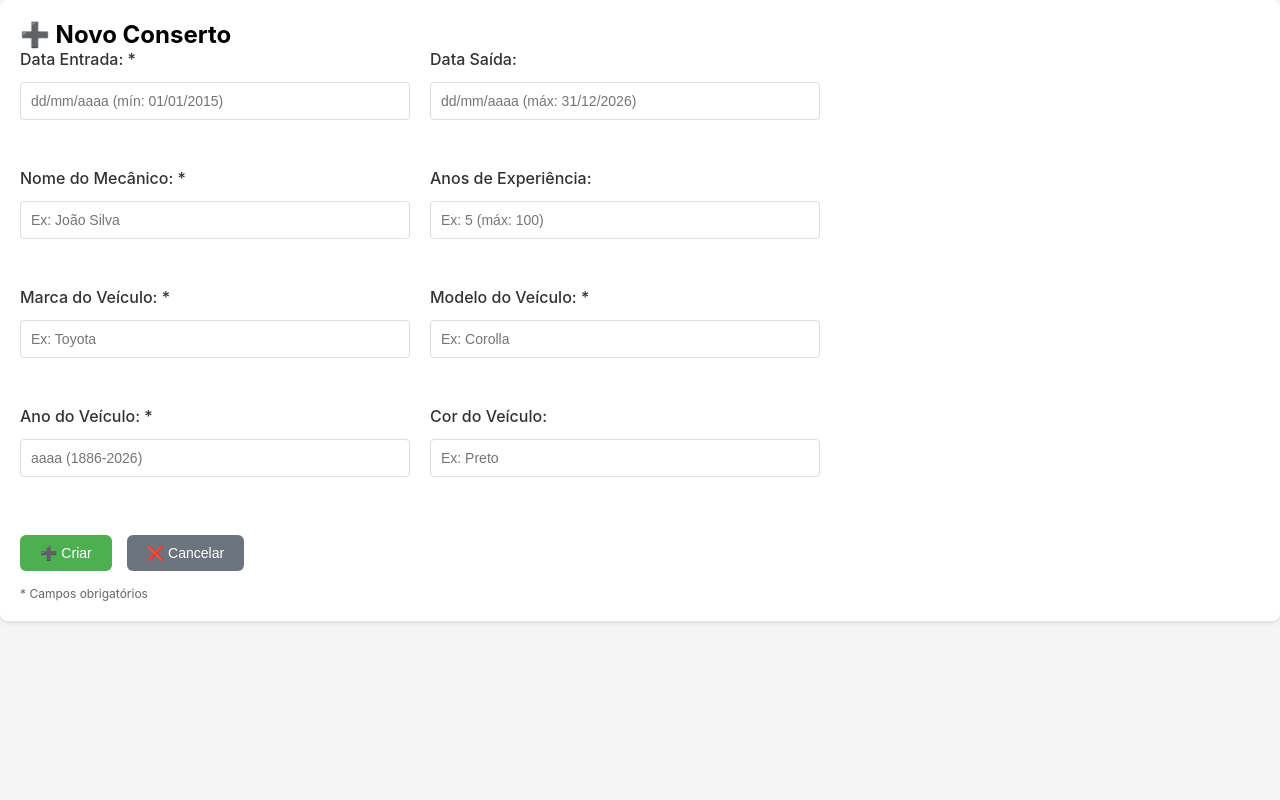
Test: ConsertoForm Component - Unit Tests › Form Validation - Required Fields › should show error for empty dataEntrada
Click the button "➕ Criar": (66, 553) [20,535,112,571]
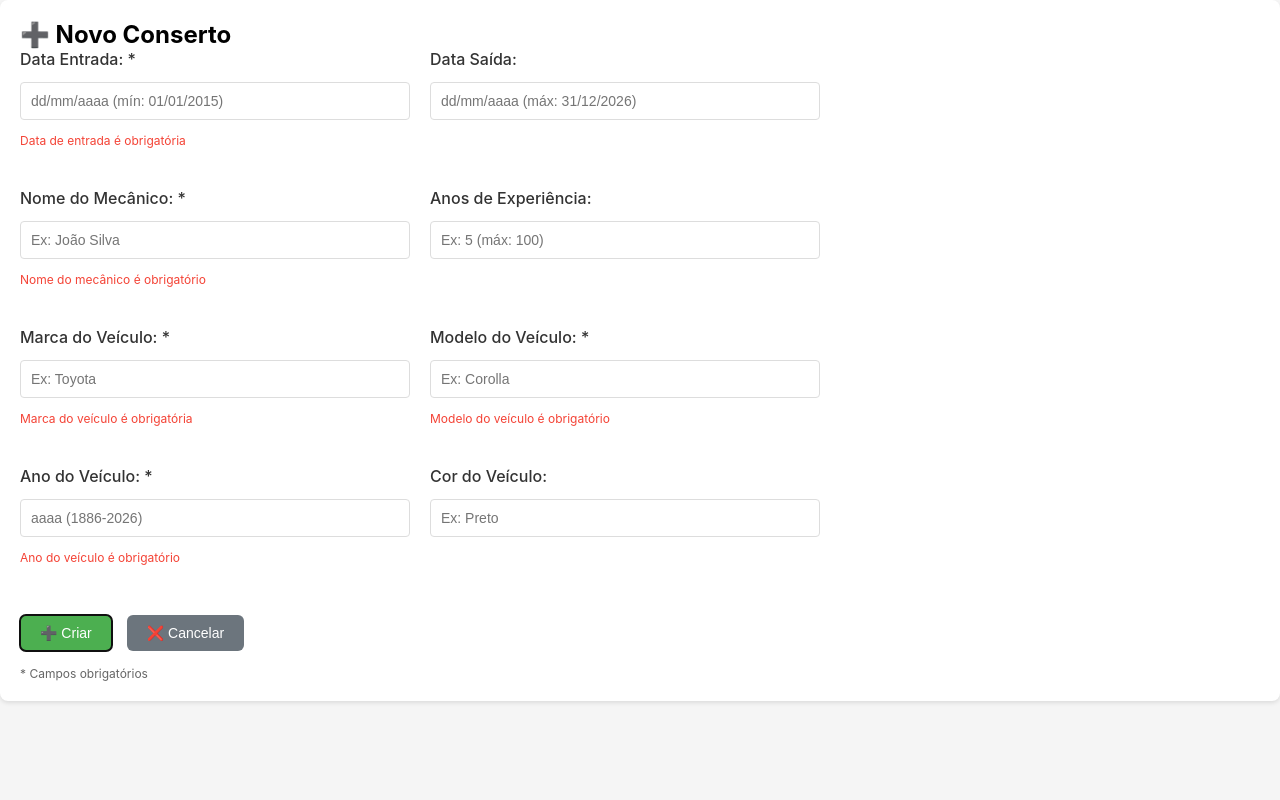
Check: the text "Data de entrada é obrigatória" is shown, box [20,133,186,148]
